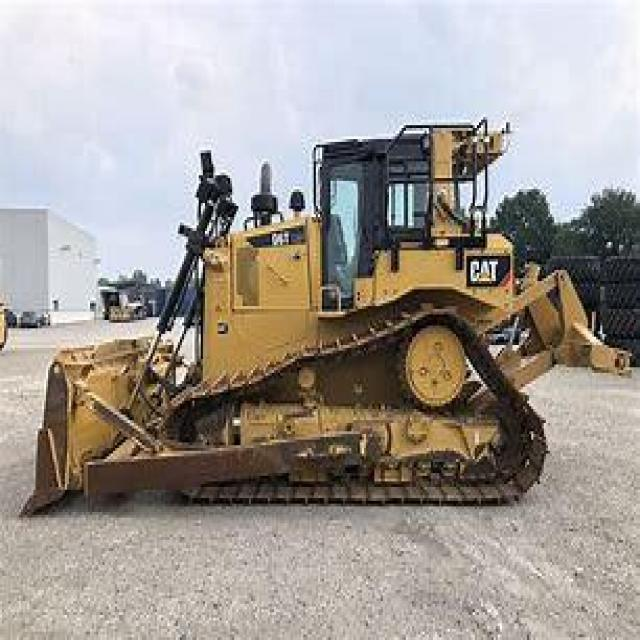Bulldozer: (29, 94, 630, 532)
